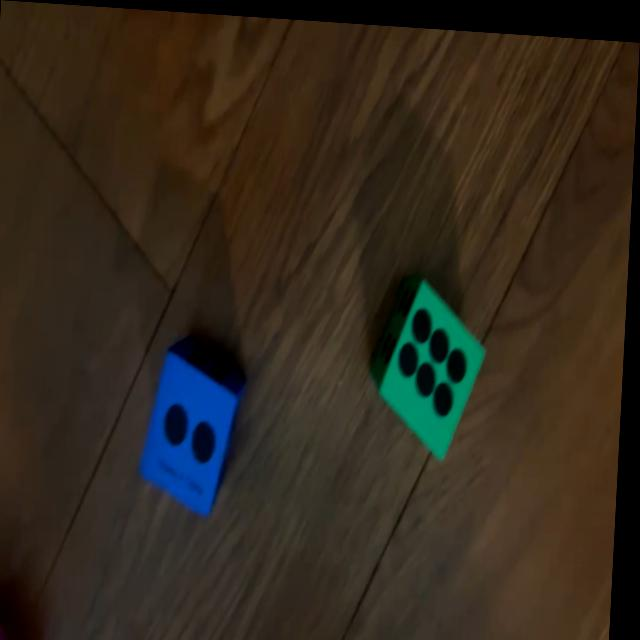blue_block: (142, 330, 252, 514)
